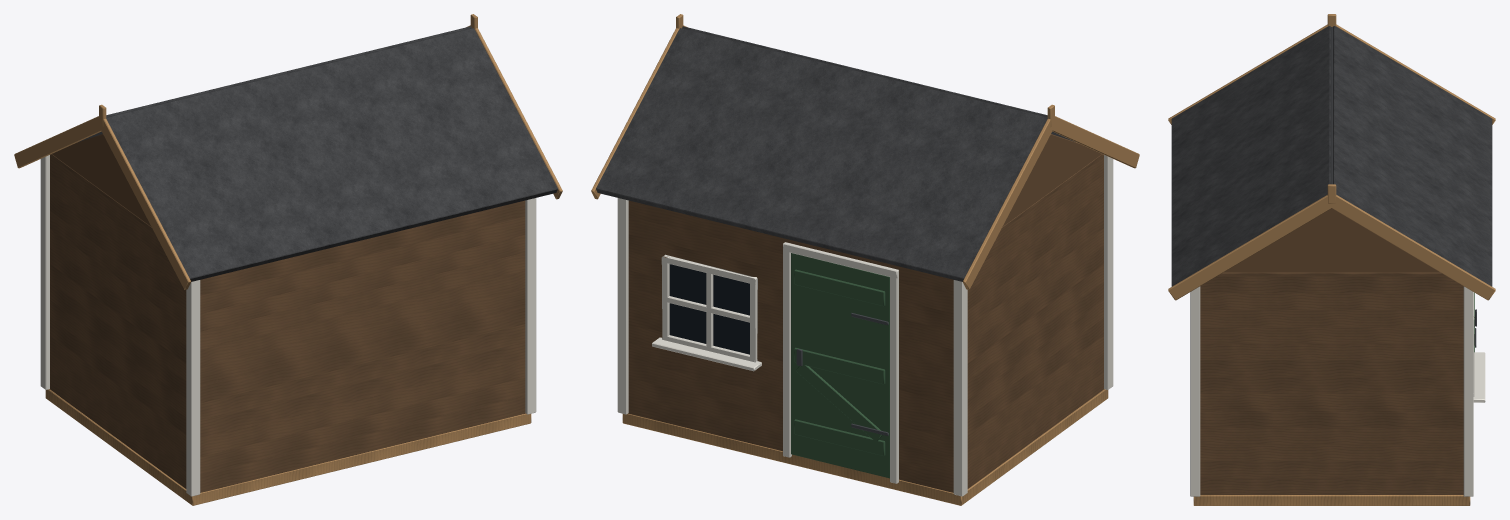
Rendered from shed.glb.
3 views of the same model, side by side, from view 1: azimuth 30°, elevation 25°; view 2: azimuth 150°, elevation 25°; view 3: azimuth 270°, elevation 25° (orthographic). The views are drawn at different scales.
Visible parts, largest first — view 1: shed; view 2: shed; view 3: shed.
Boxes of the visible parts, x1=… form: shed: x1=14, y1=14, x2=562, y2=505; shed: x1=591, y1=14, x2=1139, y2=505; shed: x1=1168, y1=14, x2=1495, y2=505.
Bounding box in the file's own units: 12.06 × 10.75 × 9.7.
Materials: 7 (3 with a texture image).
